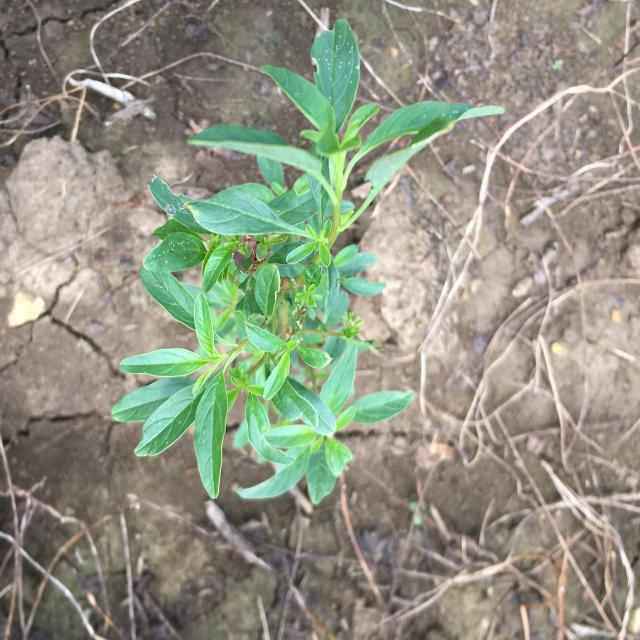Waterhemp: (111, 18, 505, 504)
